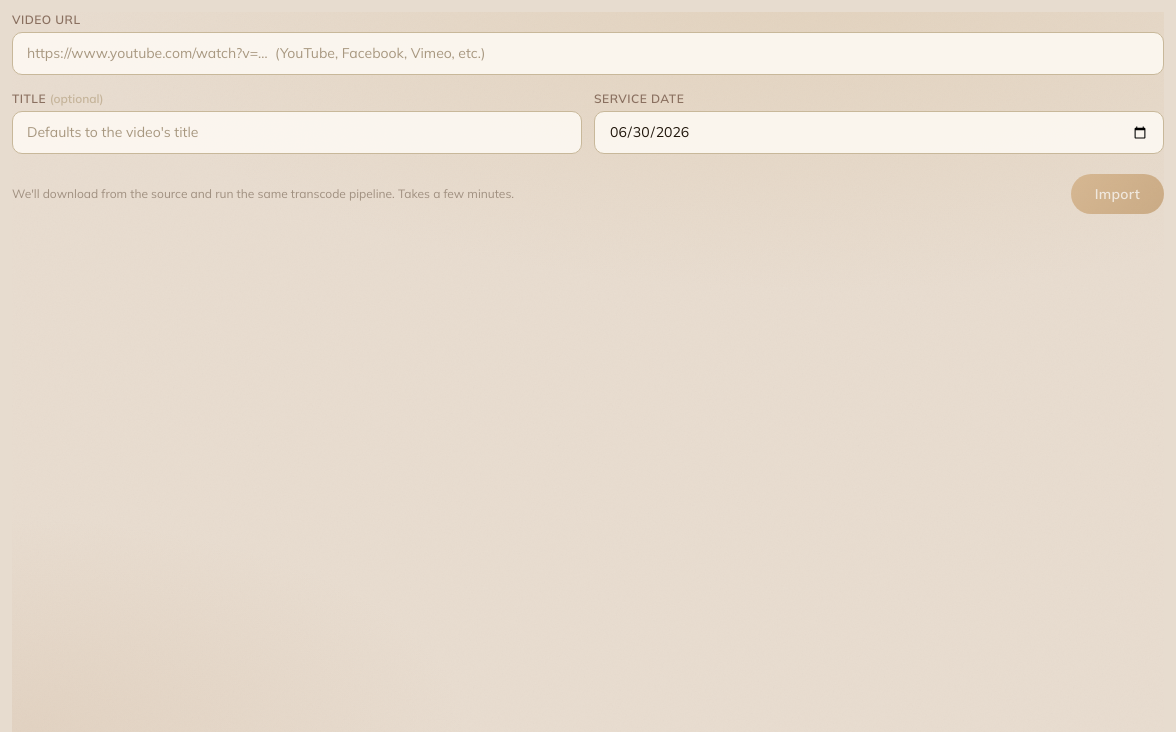
Test: <YouTubeImportForm /> › accepts a Vimeo URL
Replace the text in the field with placeholder "youtube.com" with "https://vimeo.com/123456789" at (588, 54), box [12,32,1164,75]
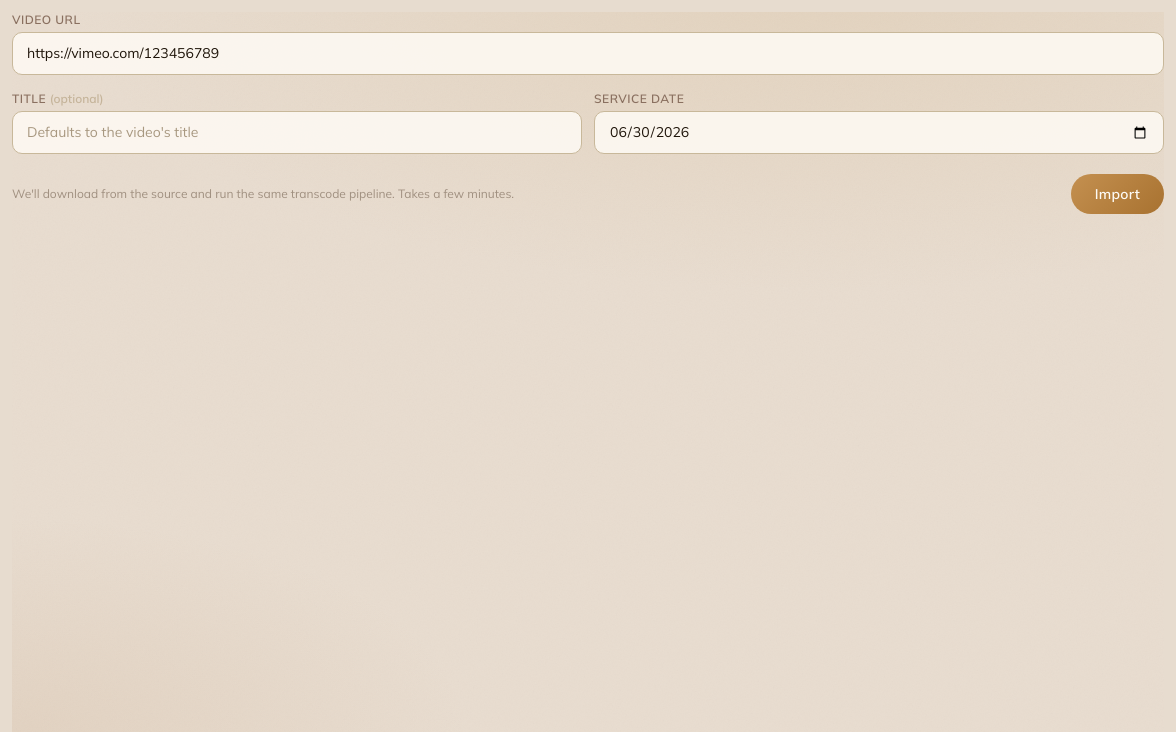
Expected: the button "Import" is enabled, [1071,174,1164,214]
